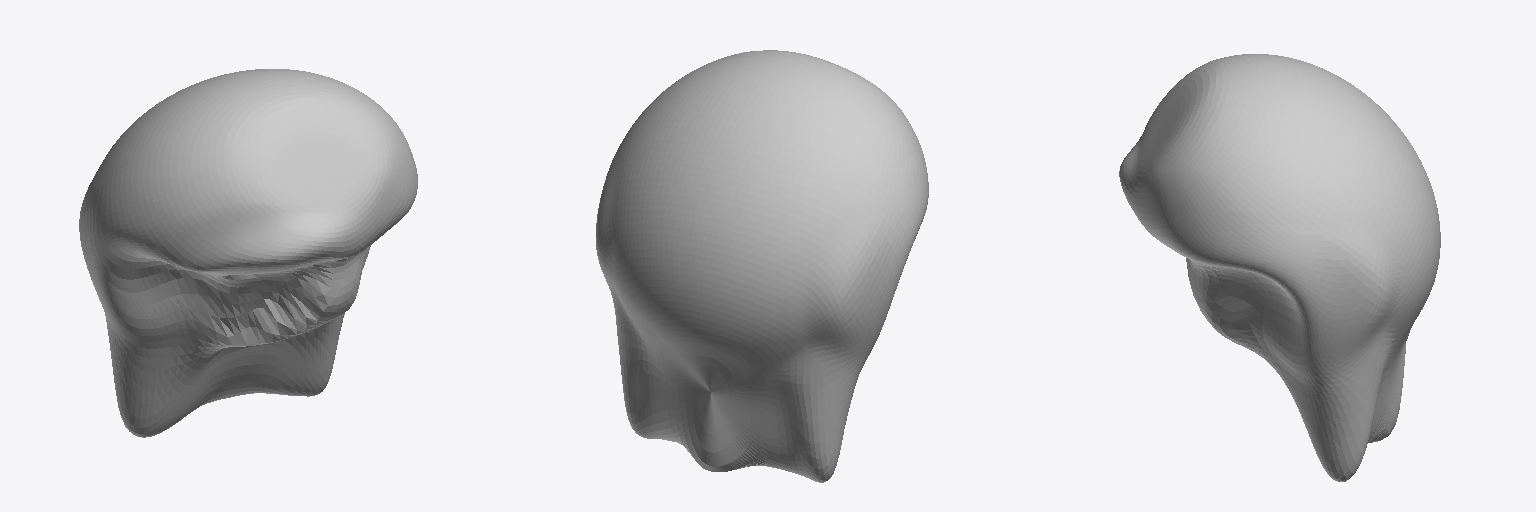
The model's file is Hair(Solid).obj.
3 renders of one model, left to right at view 1: azimuth 30°, elevation 25°; view 2: azimuth 150°, elevation 25°; view 3: azimuth 270°, elevation 25°, orthographic.
Parts seen in each view (by area): view 1: Cass_Accesory__1_2:Group36561; view 2: Cass_Accesory__1_2:Group36561; view 3: Cass_Accesory__1_2:Group36561.
Part boxes in pixels (x1,y1,x2,y2): Cass_Accesory__1_2:Group36561: (79, 69, 417, 437); Cass_Accesory__1_2:Group36561: (596, 50, 928, 482); Cass_Accesory__1_2:Group36561: (1119, 54, 1440, 481).
Bounding box in the file's own units: 9.74 × 11.52 × 9.17.